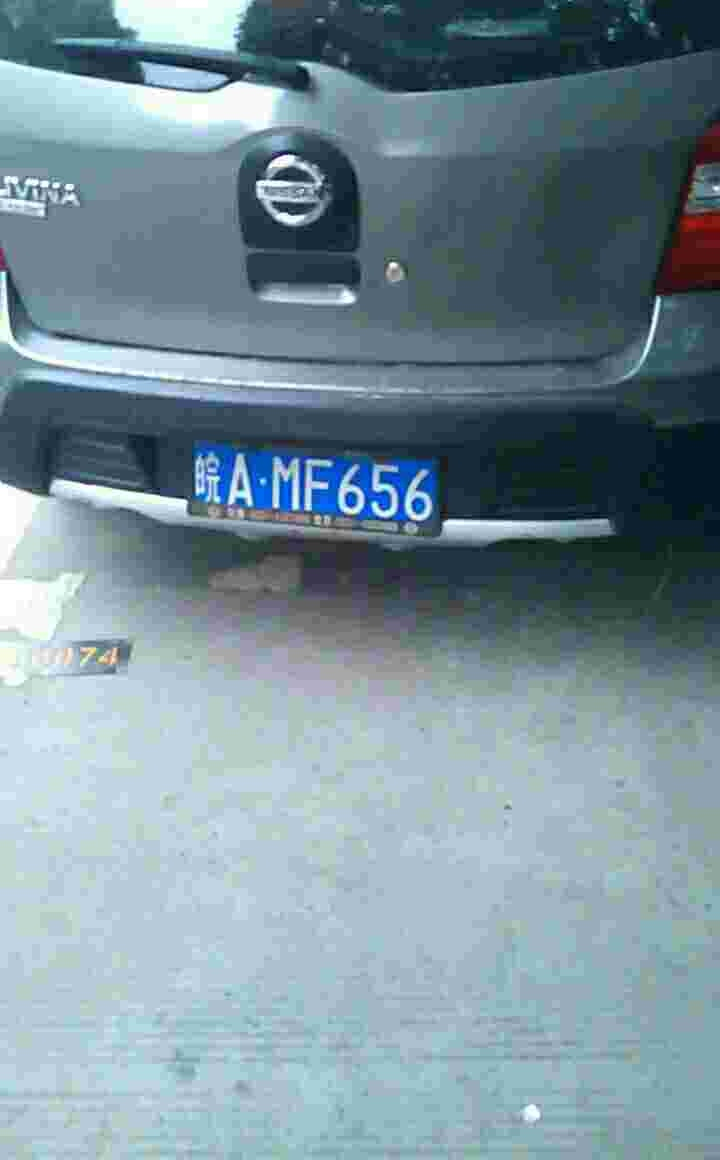license_plate: (195, 455, 438, 525)
